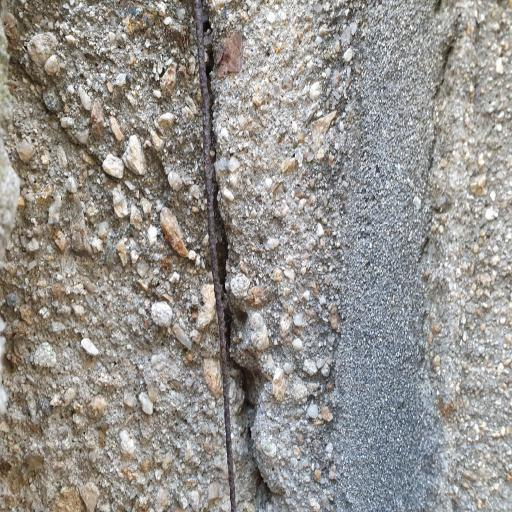exposed_rebar: (195, 0, 236, 512)
